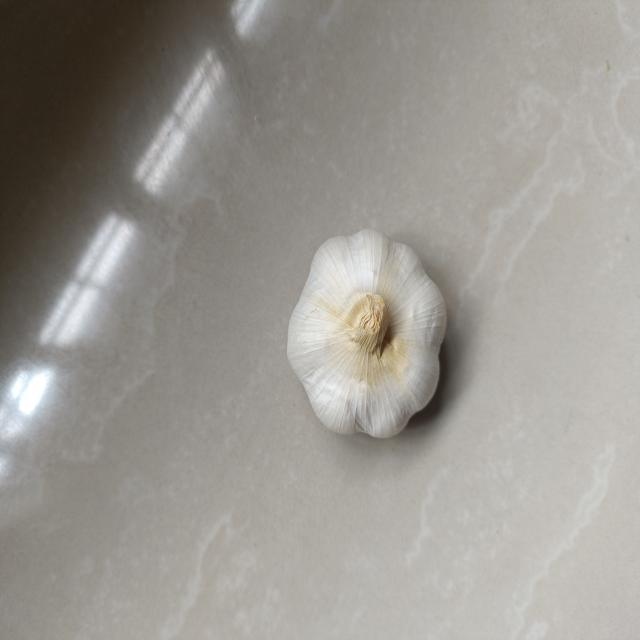garlic: (281, 226, 450, 444)
